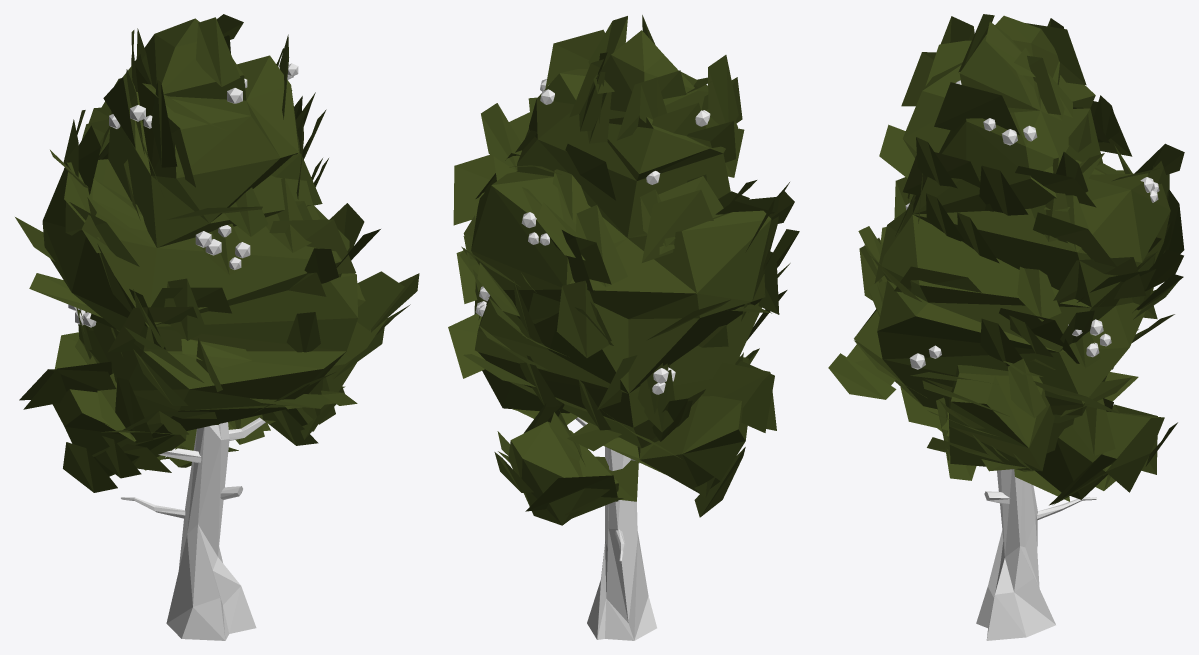
Rendered from SM_Tree_Juniper_Sapling_A.fbx.
The picture shows the model from 3 angles, left to right: view 1: azimuth 30°, elevation 25°; view 2: azimuth 150°, elevation 25°; view 3: azimuth 270°, elevation 25°; orthographic projection. The views are drawn at different scales.
Visible parts, largest first — view 1: tree-juniper-sapling-a; view 2: tree-juniper-sapling-a; view 3: tree-juniper-sapling-a.
Boxes of the visible parts, x1,y1,x2,y2 form: tree-juniper-sapling-a: (15,14,419,640); tree-juniper-sapling-a: (448,15,799,640); tree-juniper-sapling-a: (828,14,1184,640).
Bounding box in the file's own units: 1.14 × 1.86 × 0.9897.
